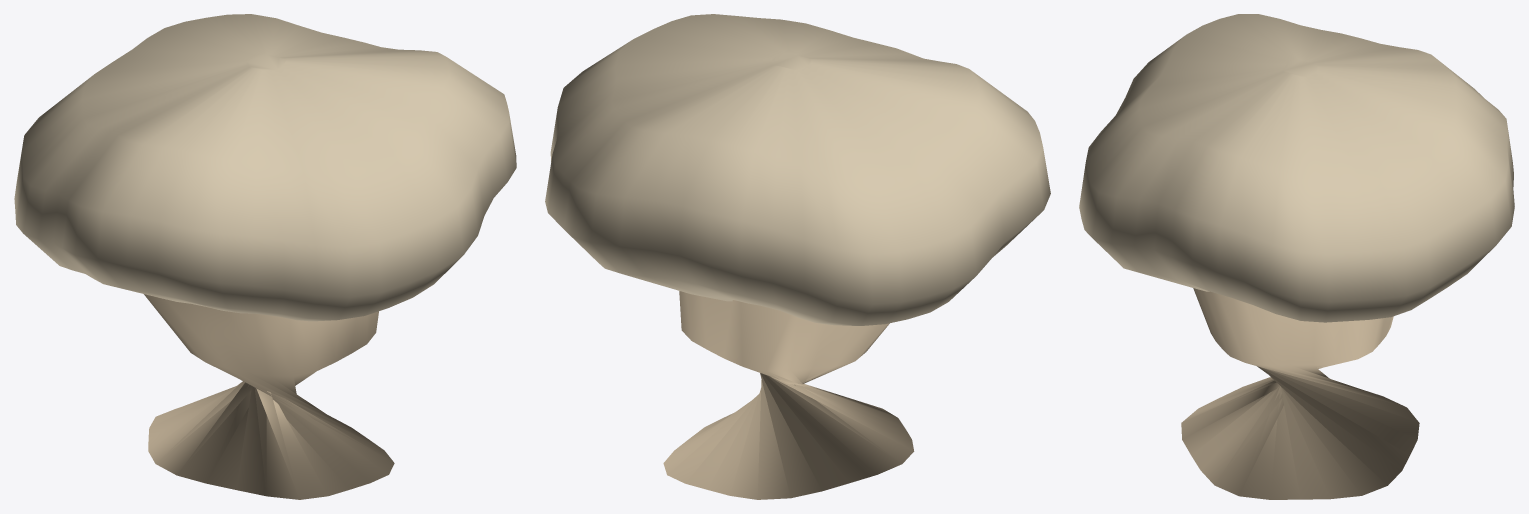
File: hero-boulder-1.glb
3 views of the same model, side by side, from view 1: azimuth 30°, elevation 25°; view 2: azimuth 150°, elevation 25°; view 3: azimuth 270°, elevation 25° (orthographic). The views are drawn at different scales.
Parts seen in each view (by area): view 1: Undercut weathered stone cap.001, Eroded limestone pedestal.001; view 2: Undercut weathered stone cap.001, Eroded limestone pedestal.001; view 3: Undercut weathered stone cap.001, Eroded limestone pedestal.001.
Part boxes in pixels (x1,y1,x2,y2): Undercut weathered stone cap.001: (14, 14, 516, 321); Eroded limestone pedestal.001: (144, 294, 394, 499); Undercut weathered stone cap.001: (545, 14, 1050, 325); Eroded limestone pedestal.001: (663, 291, 914, 499); Undercut weathered stone cap.001: (1079, 14, 1514, 322); Eroded limestone pedestal.001: (1181, 288, 1419, 499).
Size of the model in its own units: 0.1408 by 0.1188 by 0.1217.
